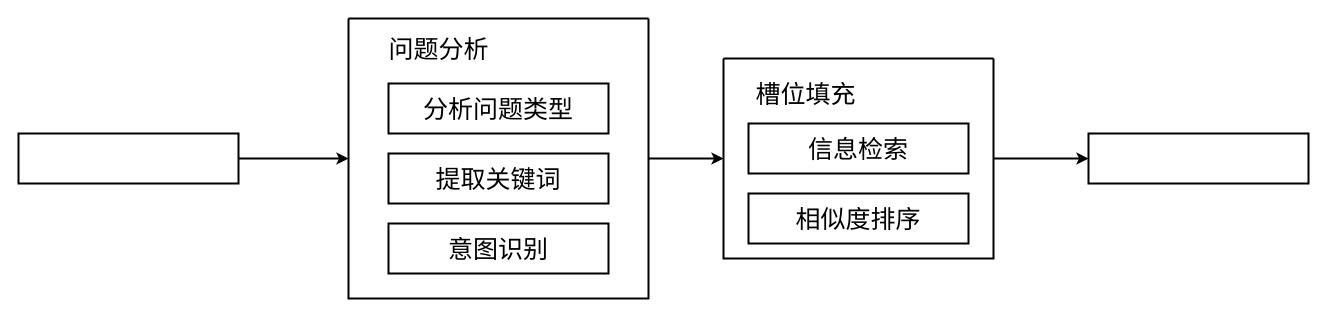
Some shapes in this 1326 by 316 pixel diagram are drawn without their labels. Here are the shapes that lost their labels. From the top down, the centre of each, then its label:
At pixel 128 158: "用户提问".
At pixel 1198 158: "生成模版".
